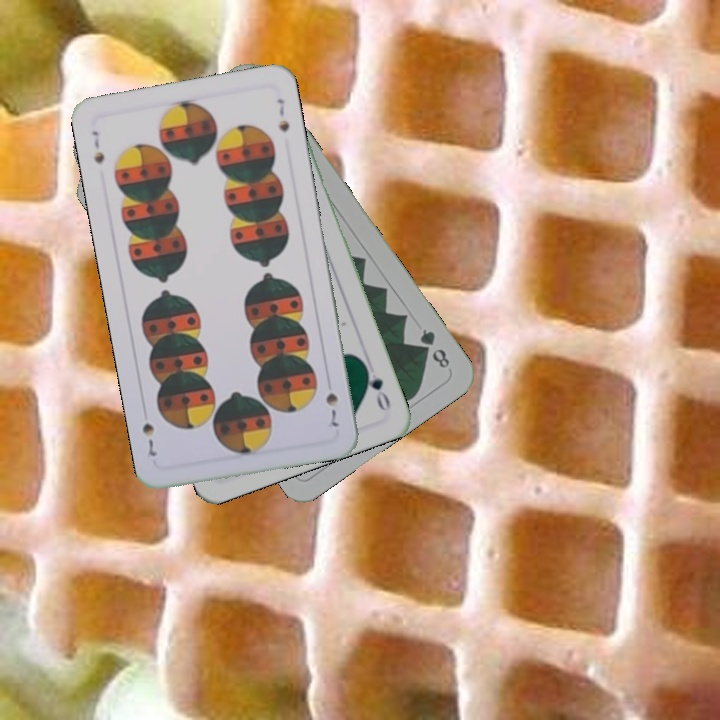G8: (416, 324, 453, 371)
GO: (359, 359, 393, 415)
S7: (321, 388, 341, 430), (87, 126, 107, 168)
